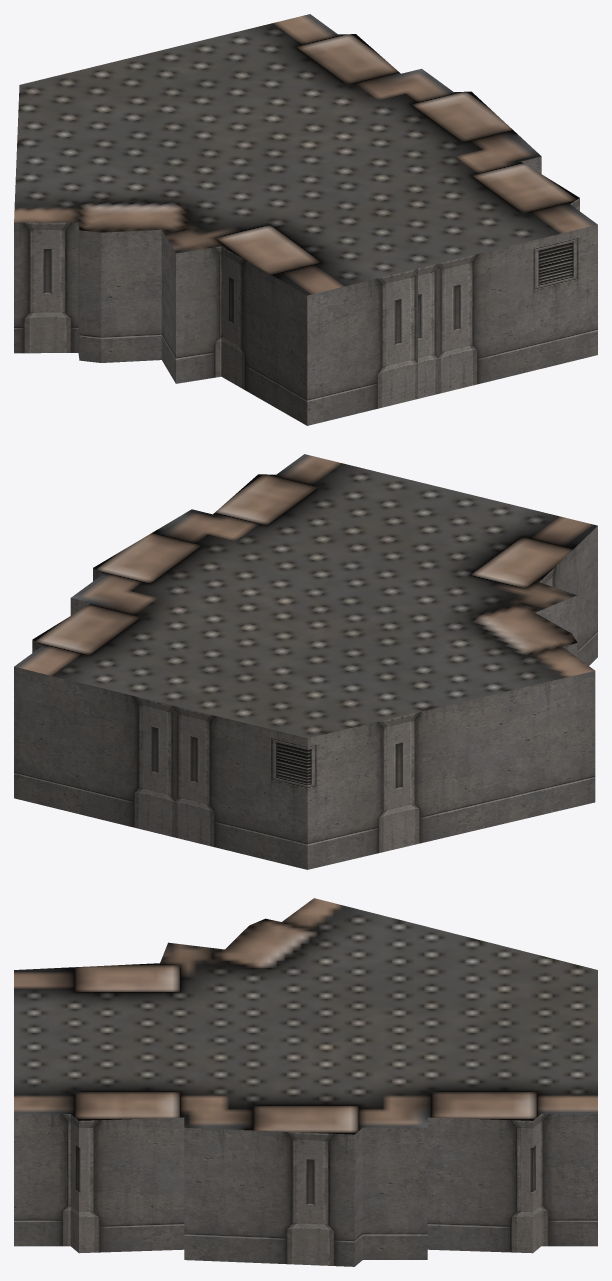
The model's file is building_hard_a_41.glb.
3 views of the same model, one above another, from view 1: azimuth 30°, elevation 25°; view 2: azimuth 150°, elevation 25°; view 3: azimuth 270°, elevation 25° (orthographic).
Visible parts, largest first — view 1: buildings/saxarba/building_hard/building_hard_a_41; view 2: buildings/saxarba/building_hard/building_hard_a_41; view 3: buildings/saxarba/building_hard/building_hard_a_41.
Boxes of the visible parts, <box> form: buildings/saxarba/building_hard/building_hard_a_41: <box>14,14,597,425</box>; buildings/saxarba/building_hard/building_hard_a_41: <box>14,454,597,869</box>; buildings/saxarba/building_hard/building_hard_a_41: <box>14,898,597,1266</box>.
Bounding box in the file's own units: 69 × 18 × 72.
